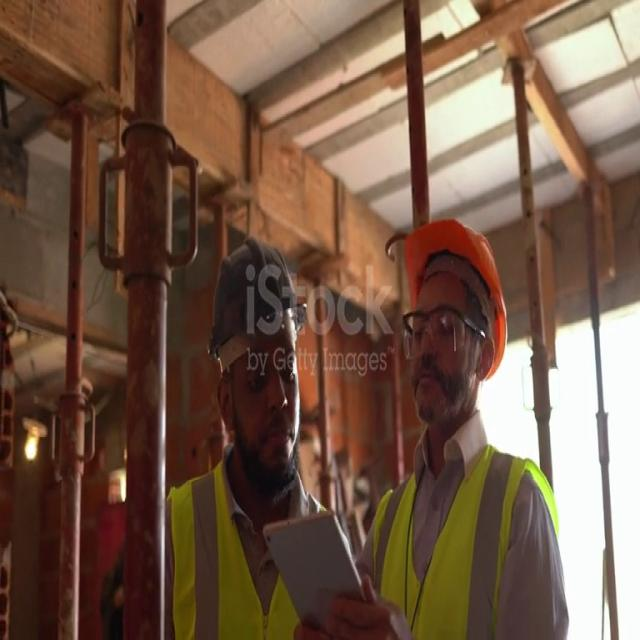capacete: (389, 213, 520, 384), (200, 238, 318, 369)
